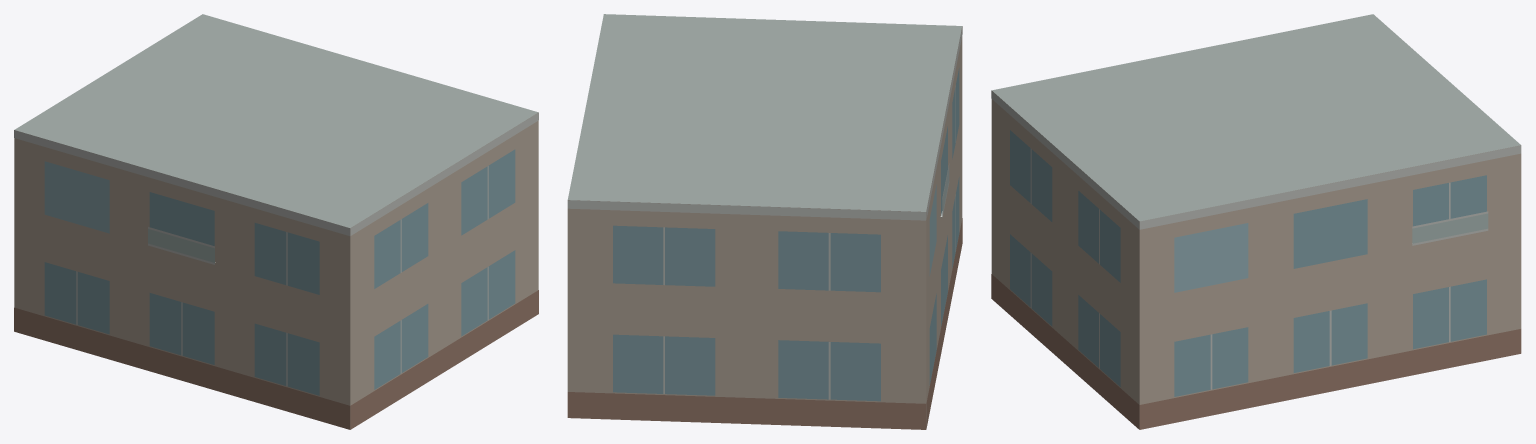
The model's file is survey-upis-33033815.glb.
3 views of the same model, side by side, from view 1: azimuth 30°, elevation 25°; view 2: azimuth 150°, elevation 25°; view 3: azimuth 270°, elevation 25° (orthographic). The views are drawn at different scales.
Parts seen in each view (by area): view 1: survey-upis-33033815.tmp; view 2: survey-upis-33033815.tmp; view 3: survey-upis-33033815.tmp.
Boxes of the visible parts, box(x1,y1,x2,y2) form: survey-upis-33033815.tmp: box(14, 14, 538, 429); survey-upis-33033815.tmp: box(567, 14, 962, 429); survey-upis-33033815.tmp: box(991, 14, 1521, 429).
Size of the model in its own units: 13.03 by 6.1 by 14.07.
